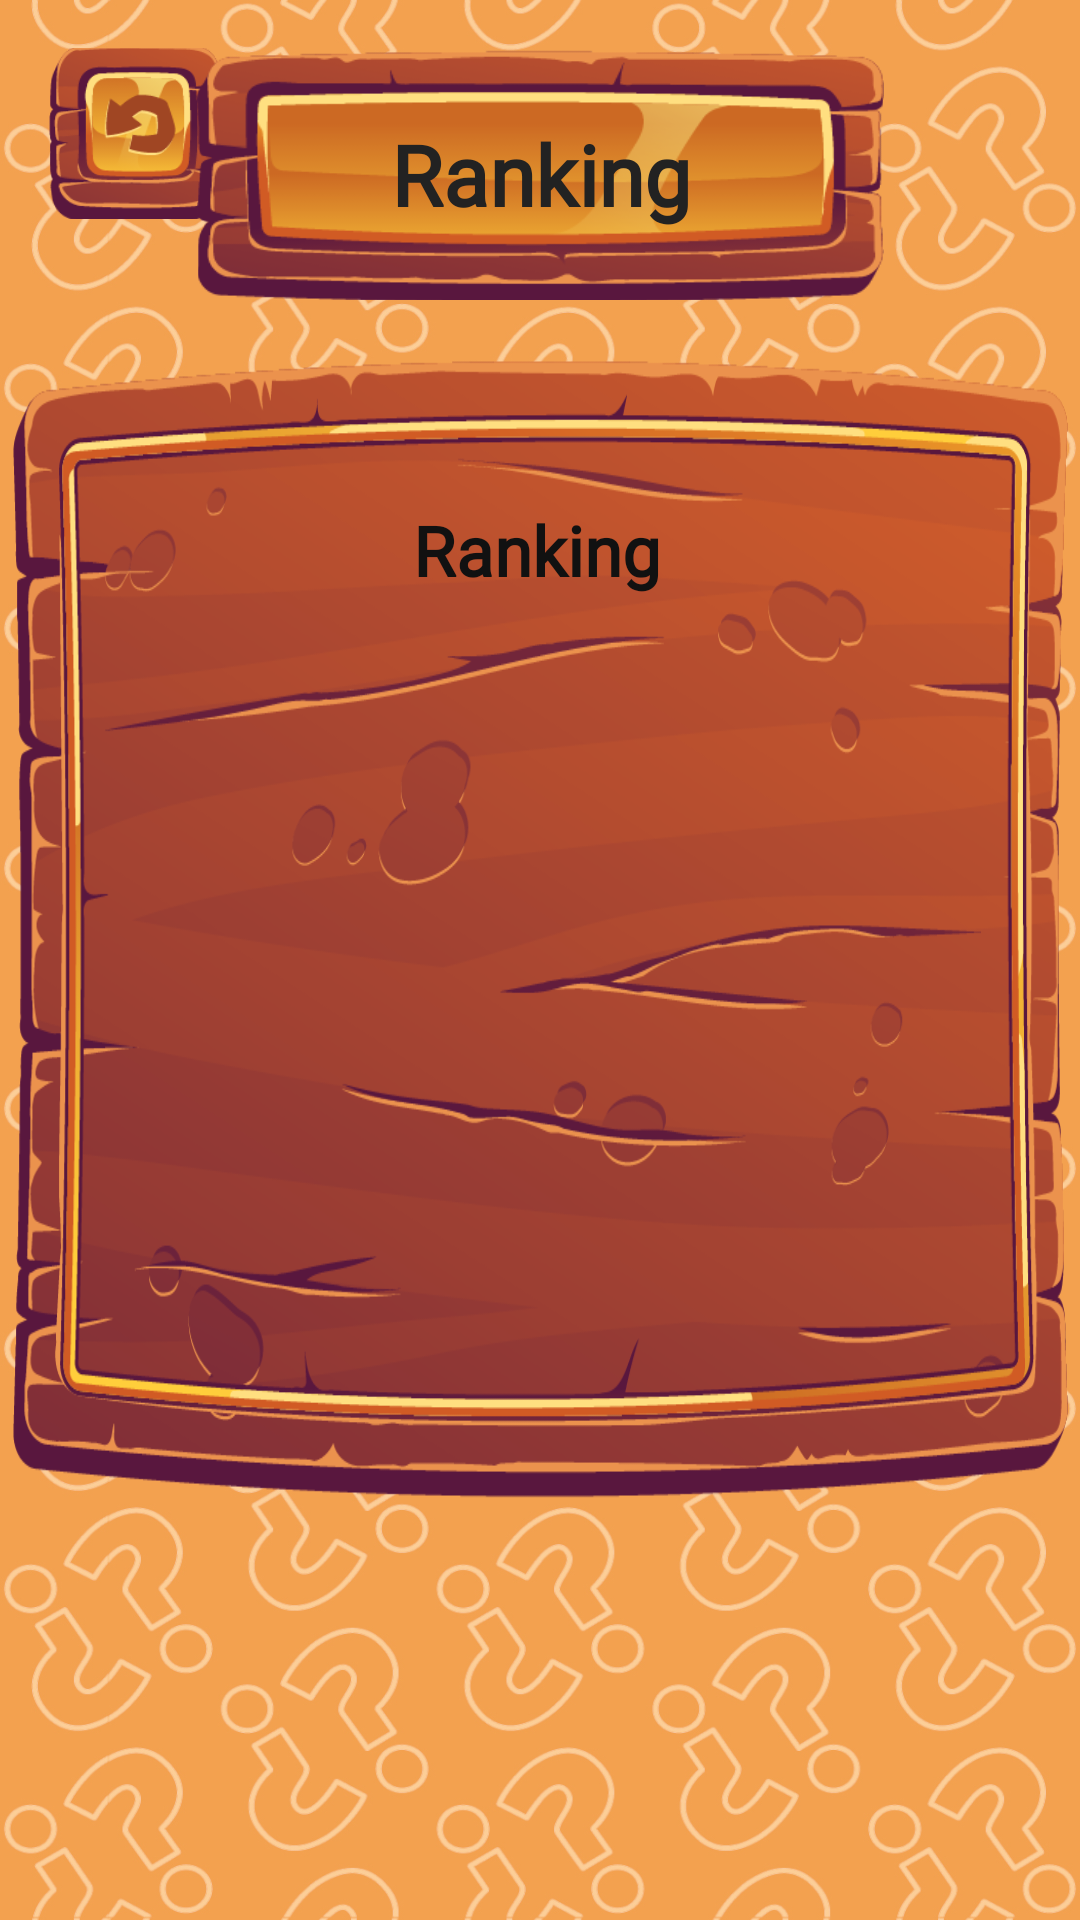

Icon click points for this 1080 × 1920 phone screenshot, format [x,y]:
regreso: [135,133]
